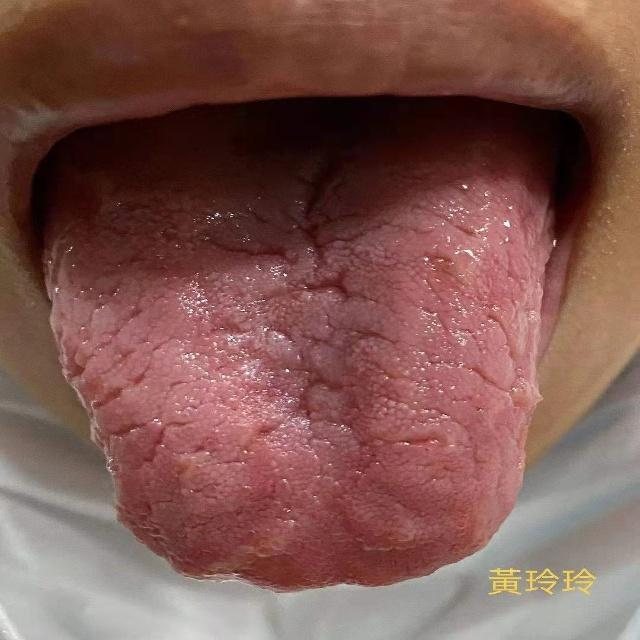hongshe: (42, 161, 547, 595)
liewenshe: (213, 231, 402, 350), (61, 332, 193, 443)
